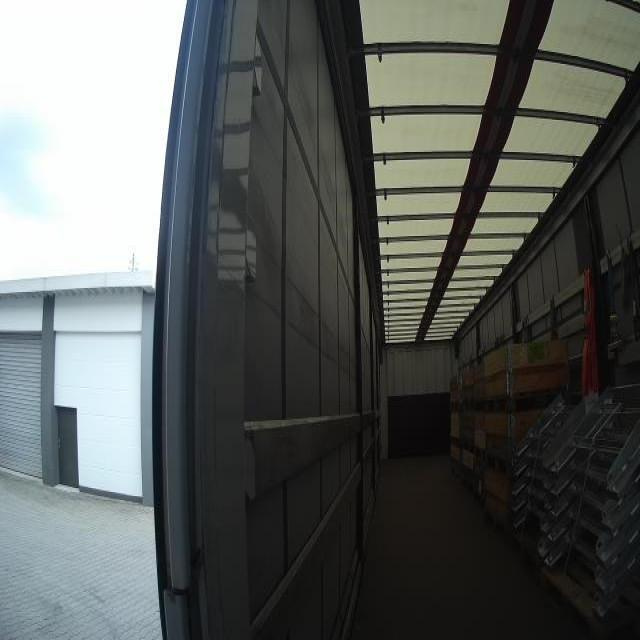pallet: (488, 385, 568, 590), (542, 568, 639, 637), (485, 507, 508, 542), (486, 449, 511, 479), (461, 400, 488, 412), (467, 479, 481, 500), (461, 437, 475, 455), (450, 467, 463, 485), (474, 446, 486, 460), (450, 403, 461, 411)
